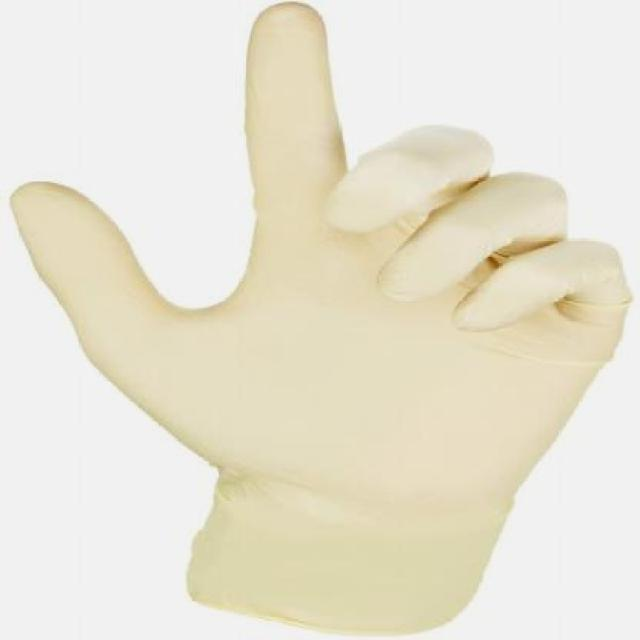glove: (12, 4, 626, 638)
